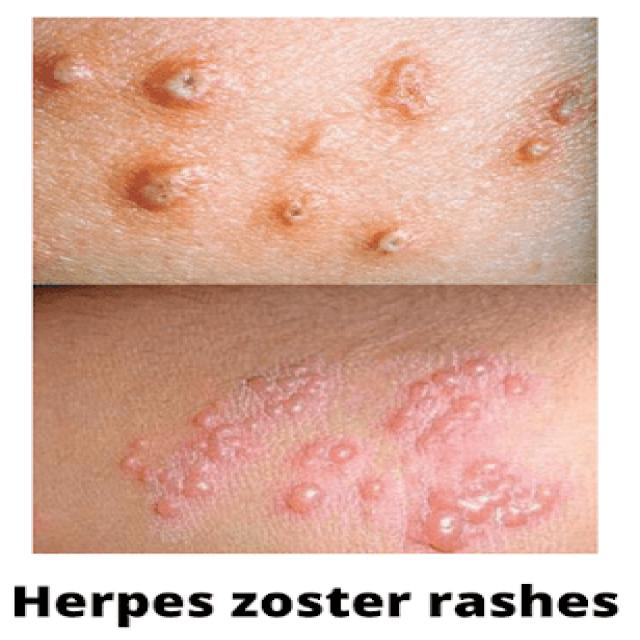herpes zoster: (36, 41, 591, 266), (116, 353, 571, 555)
